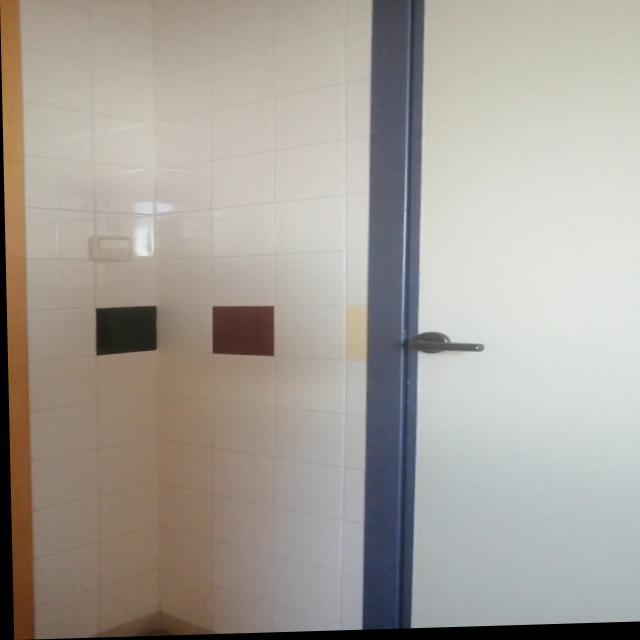door_handle: (399, 341, 488, 358)
